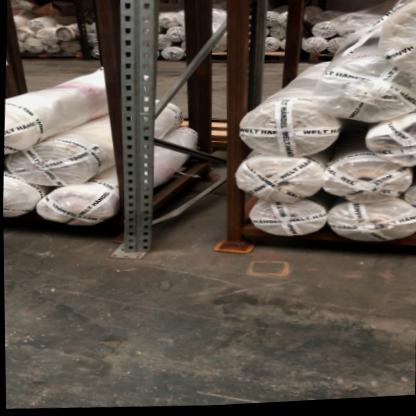vertical_damage: (115, 214, 173, 268)
